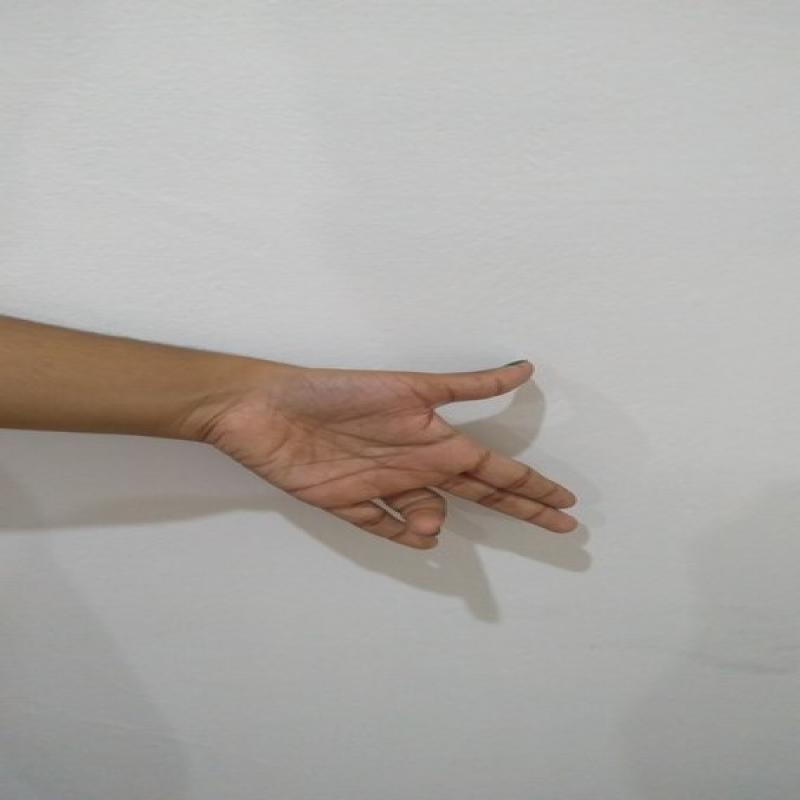Pathaaka: (162, 346, 591, 560)
